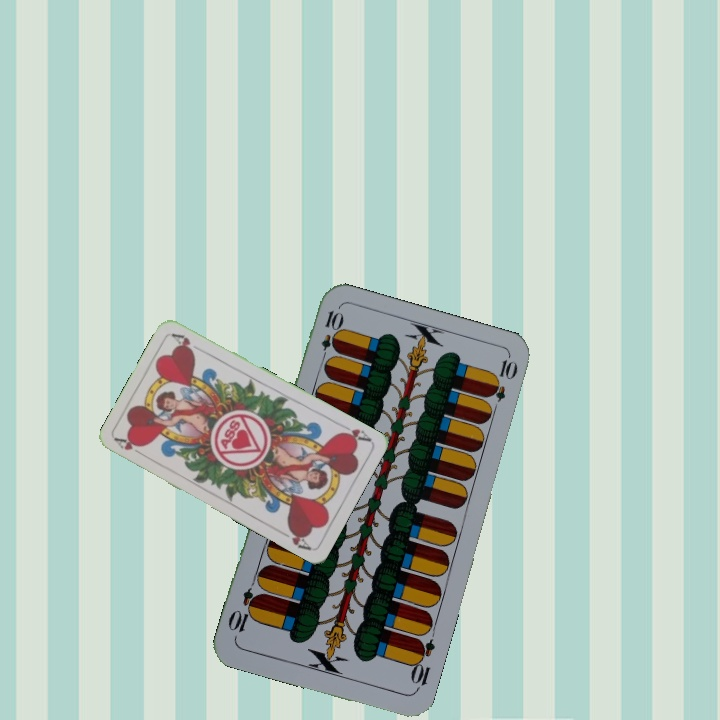E10: (406, 635, 438, 694), (316, 306, 343, 365)
HA: (111, 433, 149, 460), (335, 419, 374, 445)
